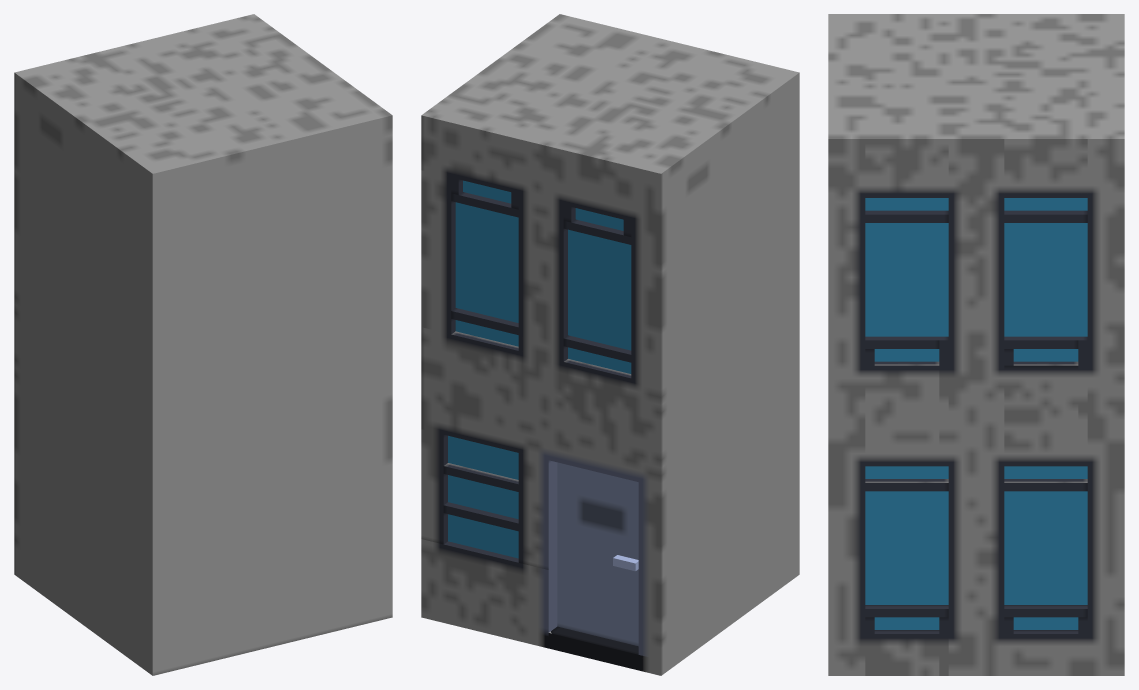
File: FRONT_DZW_BOK_OKNA.dae
3 views of the same model, side by side, from view 1: azimuth 30°, elevation 25°; view 2: azimuth 150°, elevation 25°; view 3: azimuth 270°, elevation 25° (orthographic). The views are drawn at different scales.
Visible parts, largest first — view 1: Content; view 2: Content; view 3: Content.
Boxes of the visible parts, x1,y1,x2,y2 form: Content: [14, 14, 392, 675]; Content: [421, 14, 799, 675]; Content: [828, 14, 1124, 675].
Size of the model in its own units: 32 by 64 by 32.
1 material, 1 textured.
